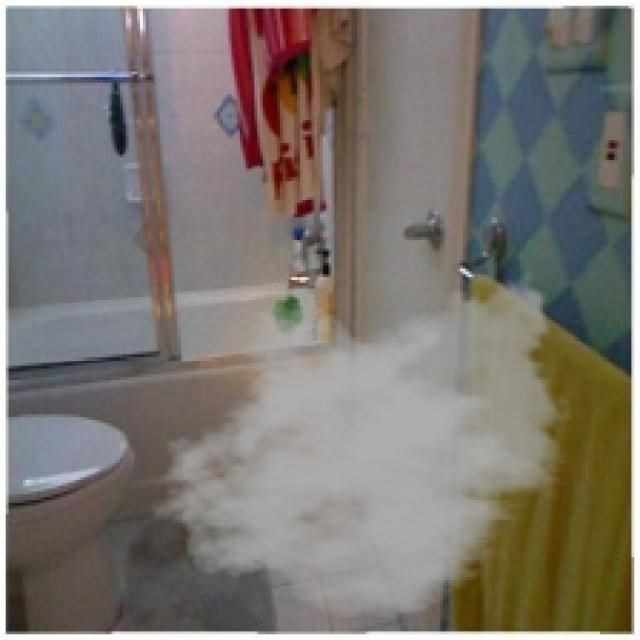Smoke: (148, 266, 574, 620)
